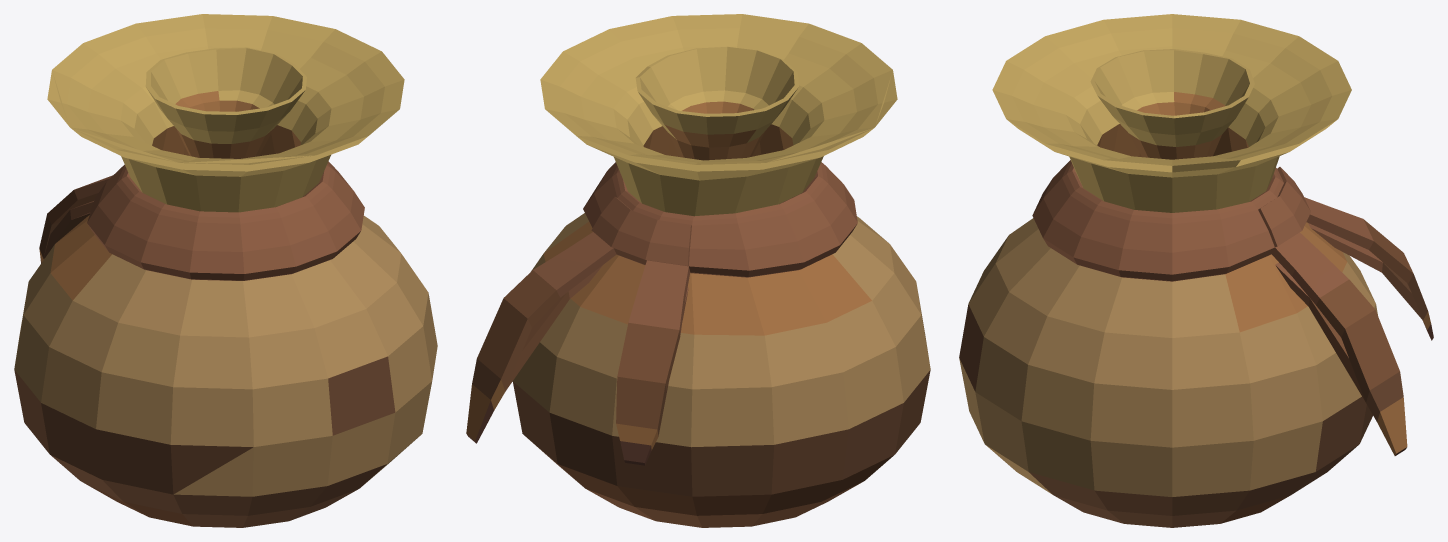
File: bag.glb
3 views of the same model, side by side, from view 1: azimuth 30°, elevation 25°; view 2: azimuth 150°, elevation 25°; view 3: azimuth 270°, elevation 25° (orthographic).
Parts seen in each view (by area): view 1: ClosedBag; view 2: ClosedBag; view 3: ClosedBag.
Part boxes in pixels (x1=…): ClosedBag: x1=14, y1=14, x2=437, y2=527; ClosedBag: x1=466, y1=14, x2=930, y2=527; ClosedBag: x1=959, y1=14, x2=1433, y2=527.
Bounding box in the file's own units: 0.6284 × 0.6428 × 0.7.
